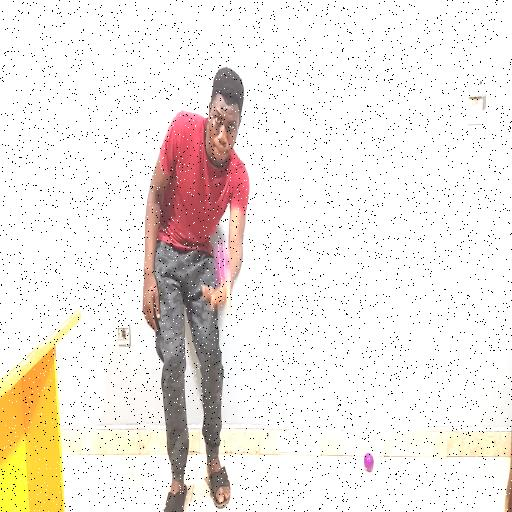plastic-ball: (212, 236, 231, 286)
